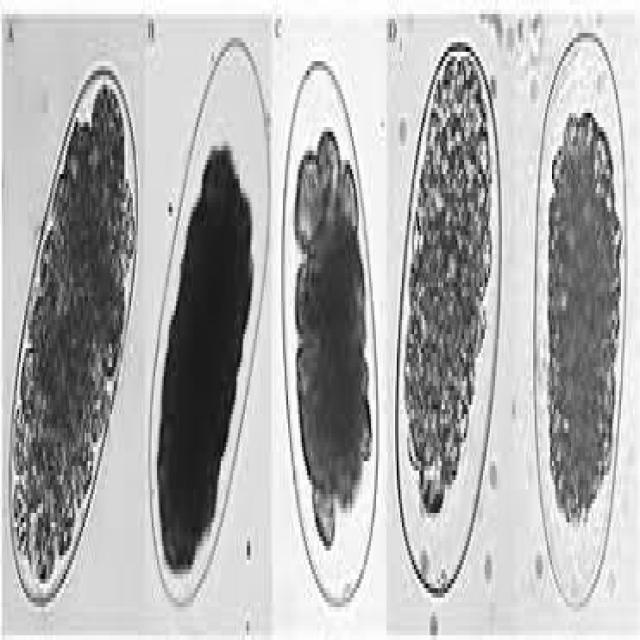Ancylostoma Spp: (2, 56, 140, 616), (149, 28, 270, 621), (392, 24, 510, 607), (524, 26, 628, 614), (279, 52, 382, 626)
